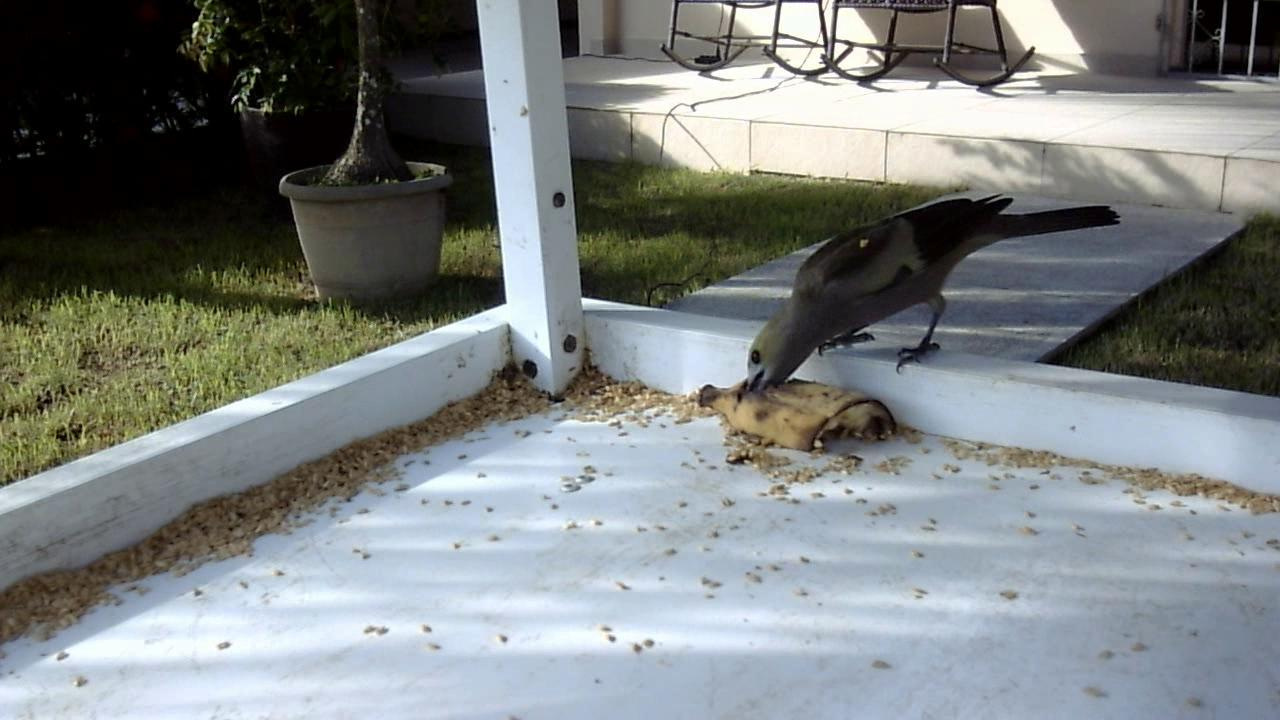sanhaco_do_coqueiro: (723, 185, 1120, 398)
